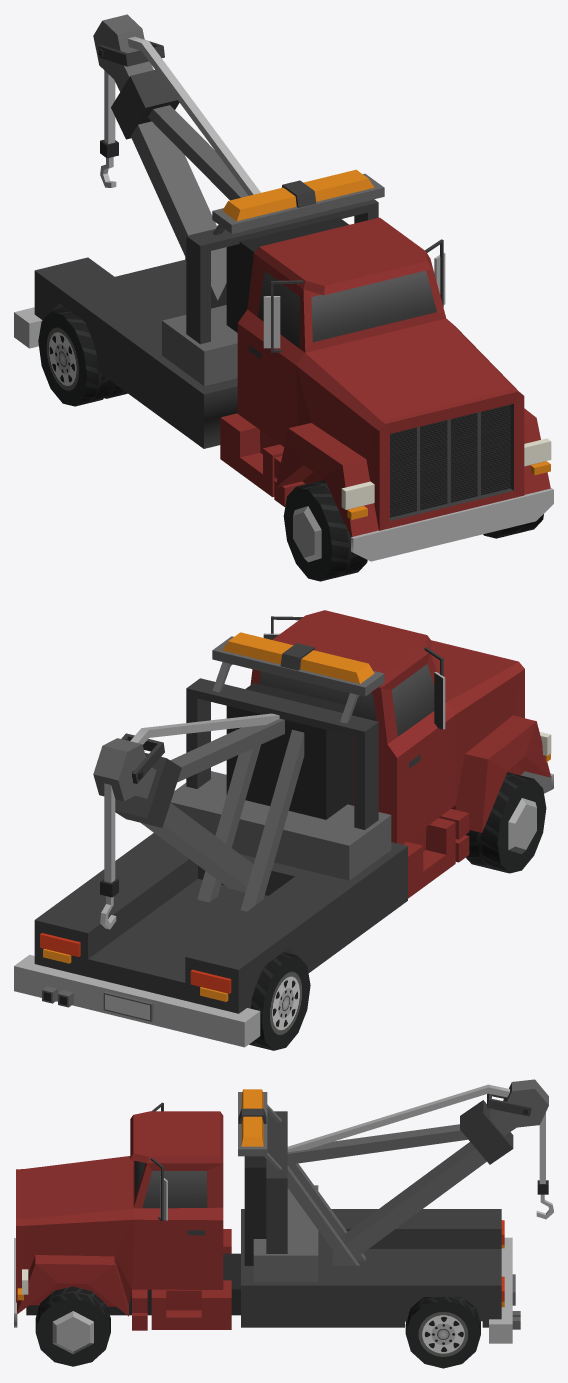
The model's file is TowTruck.fbx.
3 views of the same model, one above another, from view 1: azimuth 30°, elevation 25°; view 2: azimuth 150°, elevation 25°; view 3: azimuth 270°, elevation 25° (orthographic). The views are drawn at different scales.
Visible parts, largest first — view 1: TowTruck, TireFR, TireBR; view 2: TowTruck, TireFR, TireBR; view 3: TowTruck, TireFL, TireBL.
Boxes of the visible parts, x1,y1,x2,y2 form: TowTruck: (14, 14, 553, 561); TireFR: (283, 480, 367, 581); TireBR: (38, 308, 127, 406); TowTruck: (14, 610, 553, 1047); TireFR: (466, 772, 546, 873); TireBR: (249, 952, 310, 1050); TowTruck: (14, 1079, 553, 1343); TireFL: (35, 1286, 110, 1366); TireBL: (405, 1296, 480, 1368).
Bounding box in the file's own units: 232 × 303 × 611.
